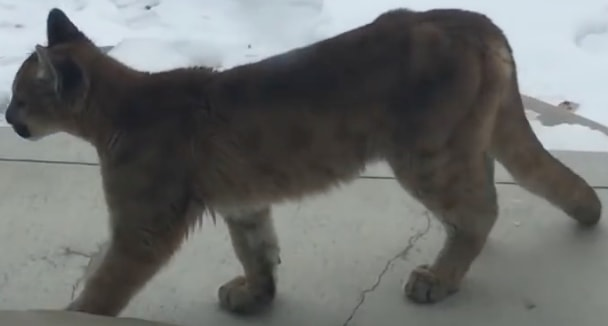Mountain Lion: (3, 6, 600, 313)
